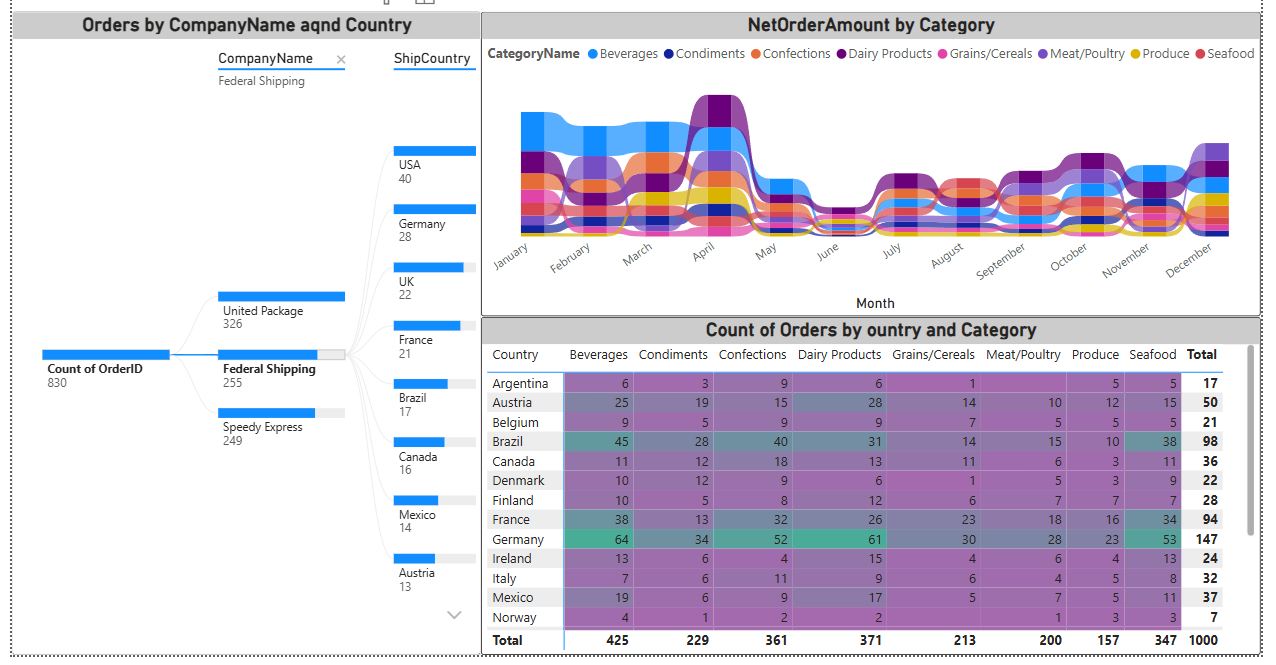

Layout of this report page (visuals, bound fields, positions):
{"tool":"powerbi","page":{"name":"CountryWise","canvas":[1280,720],"ordinal":1},"visuals":[{"type":"pivotTable","title":"Count of Orders by ountry and Category","fields":{"Columns":["Categories.CategoryName"],"Values":["CountNonNull(Orders.OrderID)"],"Rows":["Customers.Country"]},"box":[480.9,373,799.1,346.5],"z":0},{"type":"ribbonChart","title":"NetOrderAmount by Category","fields":{"Category":["Orders.OrderDate.Variation.Date Hierarchy.Month"],"Y":["Sum(Order Details.Net Order Amount)"],"Series":["Categories.CategoryName"]},"box":[480.9,60.6,799.1,312.4],"z":1000},{"type":"decompositionTreeVisual","title":"Orders by CompanyName aqnd Country ","fields":{"Analyze":["Count(Orders.OrderID)"],"ExplainBy":["Shippers.CompanyName","Orders.ShipCountry"]},"box":[0,60.6,480.9,658.9],"z":2000}]}

Visuals, with their boxes on the page's 1280x720 design canvas (x1, y1, x2, y2). These are canvas units, not pixel positions in the 1276x665 screenshot, which may show the page scaled, cropped or inside an application window:
"Count of Orders by ountry and Category" pivotTable: <region>481, 373, 1280, 720</region>
"NetOrderAmount by Category" ribbonChart: <region>481, 61, 1280, 373</region>
"Orders by CompanyName aqnd Country " decompositionTreeVisual: <region>0, 61, 481, 720</region>
